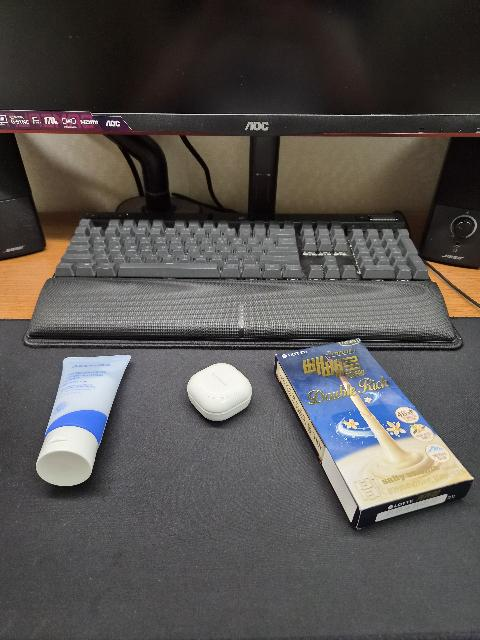earphone_case: (187, 363, 252, 421)
handcream: (36, 354, 131, 486)
pepero: (274, 338, 474, 530)
